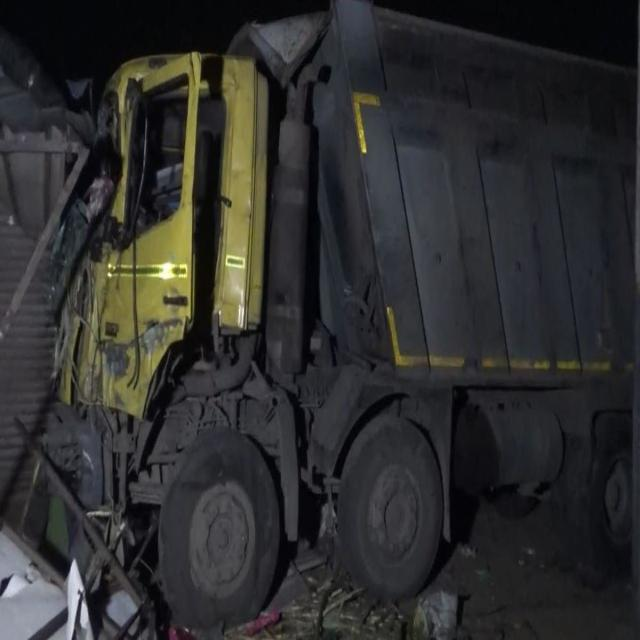accident: (44, 0, 634, 629)
